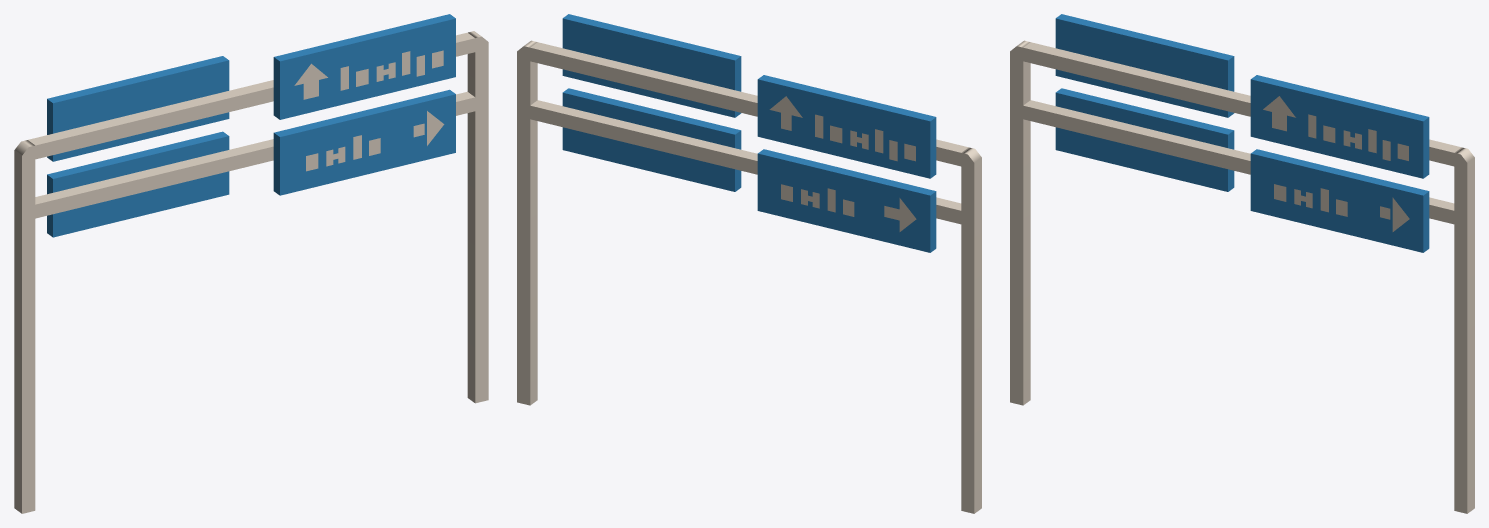
File: allExit.fbx
3 views of the same model, side by side, from view 1: azimuth 30°, elevation 25°; view 2: azimuth 150°, elevation 25°; view 3: azimuth 330°, elevation 25° (orthographic). The views are drawn at different scales.
Parts seen in each view (by area): view 1: allExit_34, allExit_1; view 2: allExit_34, allExit_1; view 3: allExit_34, allExit_1.
Part boxes in pixels (x1=…): allExit_34: x1=47, y1=14, x2=455, y2=237; allExit_1: x1=14, y1=31, x2=488, y2=513; allExit_34: x1=562, y1=14, x2=936, y2=252; allExit_1: x1=517, y1=40, x2=981, y2=513; allExit_34: x1=1055, y1=14, x2=1429, y2=252; allExit_1: x1=1010, y1=40, x2=1474, y2=513.
Size of the model in its own units: 105 by 85.15 by 8.72.
